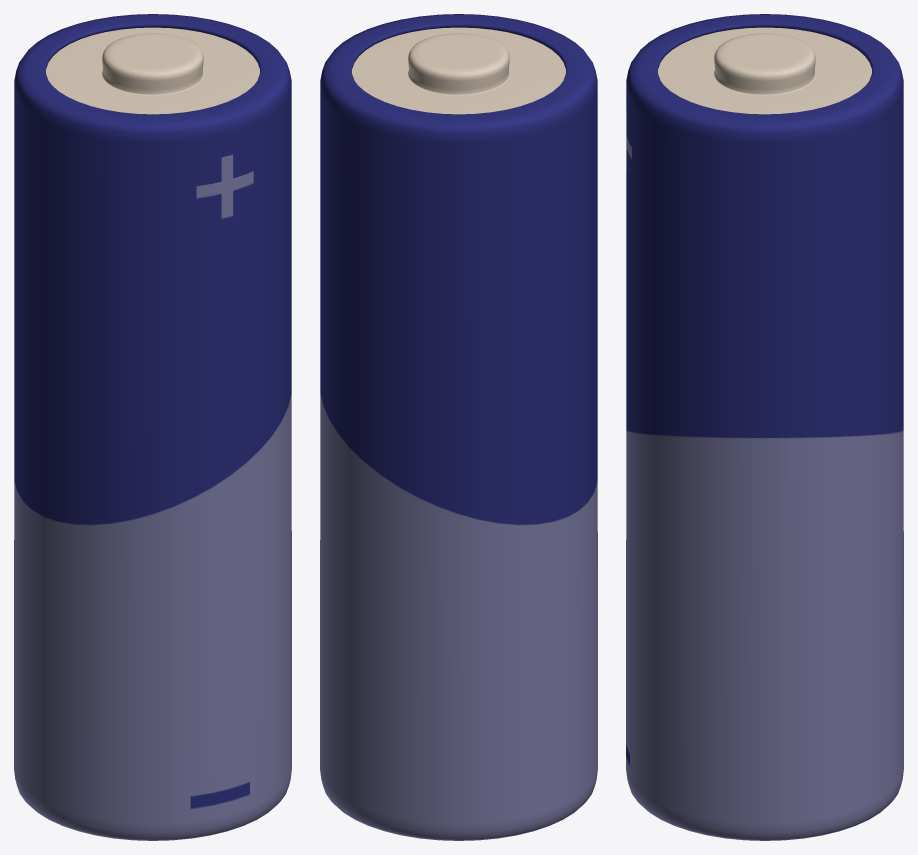
Rendered from trash-kertas.glb.
3 views of the same model, side by side, from view 1: azimuth 30°, elevation 25°; view 2: azimuth 150°, elevation 25°; view 3: azimuth 270°, elevation 25° (orthographic).
Parts seen in each view (by area): view 1: battery_rechargeable_stylized_lod0; view 2: battery_rechargeable_stylized_lod0; view 3: battery_rechargeable_stylized_lod0.
Boxes of the visible parts, x1,y1,x2,y2 form: battery_rechargeable_stylized_lod0: [14, 14, 291, 840]; battery_rechargeable_stylized_lod0: [320, 14, 597, 840]; battery_rechargeable_stylized_lod0: [626, 14, 903, 840].
Bounding box in the file's own units: 0.0166 × 0.049 × 0.0165.
Materials: 1 (1 with a texture image).
